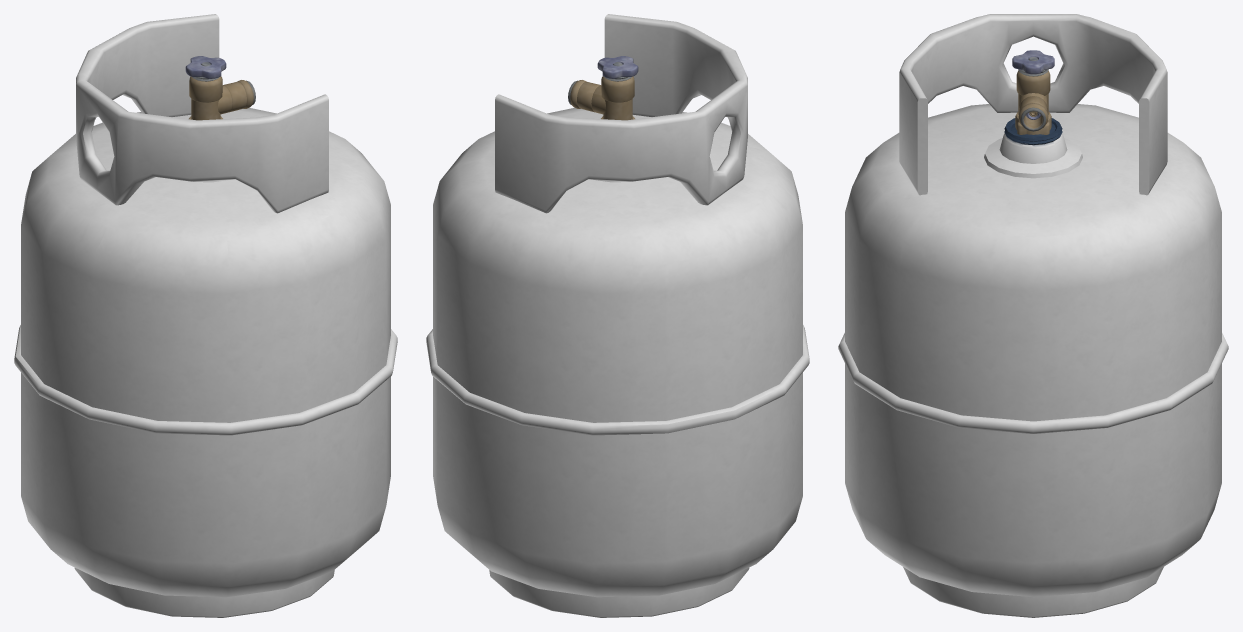
File: simple_propane_tank.glb
3 views of the same model, side by side, from view 1: azimuth 30°, elevation 25°; view 2: azimuth 150°, elevation 25°; view 3: azimuth 270°, elevation 25° (orthographic).
Parts seen in each view (by area): view 1: Object_2; view 2: Object_2; view 3: Object_2.
Part boxes in pixels (box(x1,y1,x2,y2)): Object_2: box(14, 14, 397, 617); Object_2: box(426, 14, 809, 617); Object_2: box(838, 14, 1228, 617).
Bounding box in the file's own units: 2.19 × 3.12 × 2.19.
Materials: 1 (1 with a texture image).
